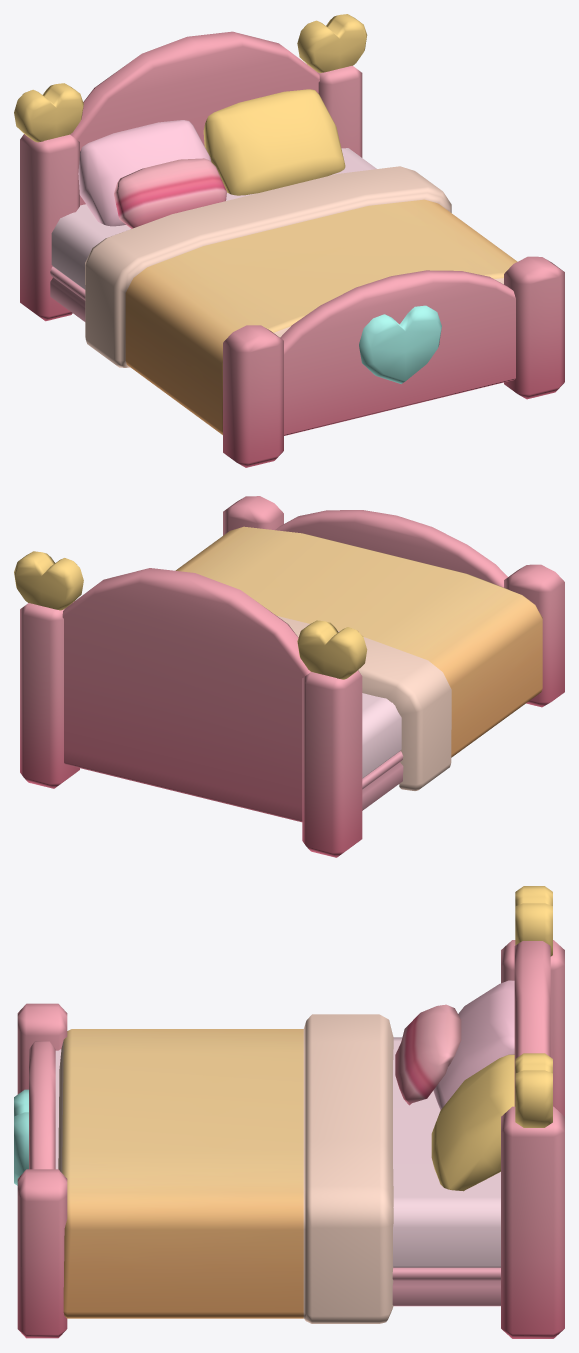
Rendered from Homestead_mkl_17.fbx.
The picture shows the model from 3 angles, top to bottom: view 1: azimuth 30°, elevation 25°; view 2: azimuth 150°, elevation 25°; view 3: azimuth 270°, elevation 25°; orthographic projection. The views are drawn at different scales.
Parts seen in each view (by area): view 1: Homestead_mkl_17; view 2: Homestead_mkl_17; view 3: Homestead_mkl_17.
Part boxes in pixels (left/top/right/bottom): Homestead_mkl_17: left=14, top=14, right=564, bottom=467; Homestead_mkl_17: left=14, top=496, right=564, bottom=857; Homestead_mkl_17: left=14, top=886, right=564, bottom=1338.
Size of the model in its own units: 315 by 208 by 361.
